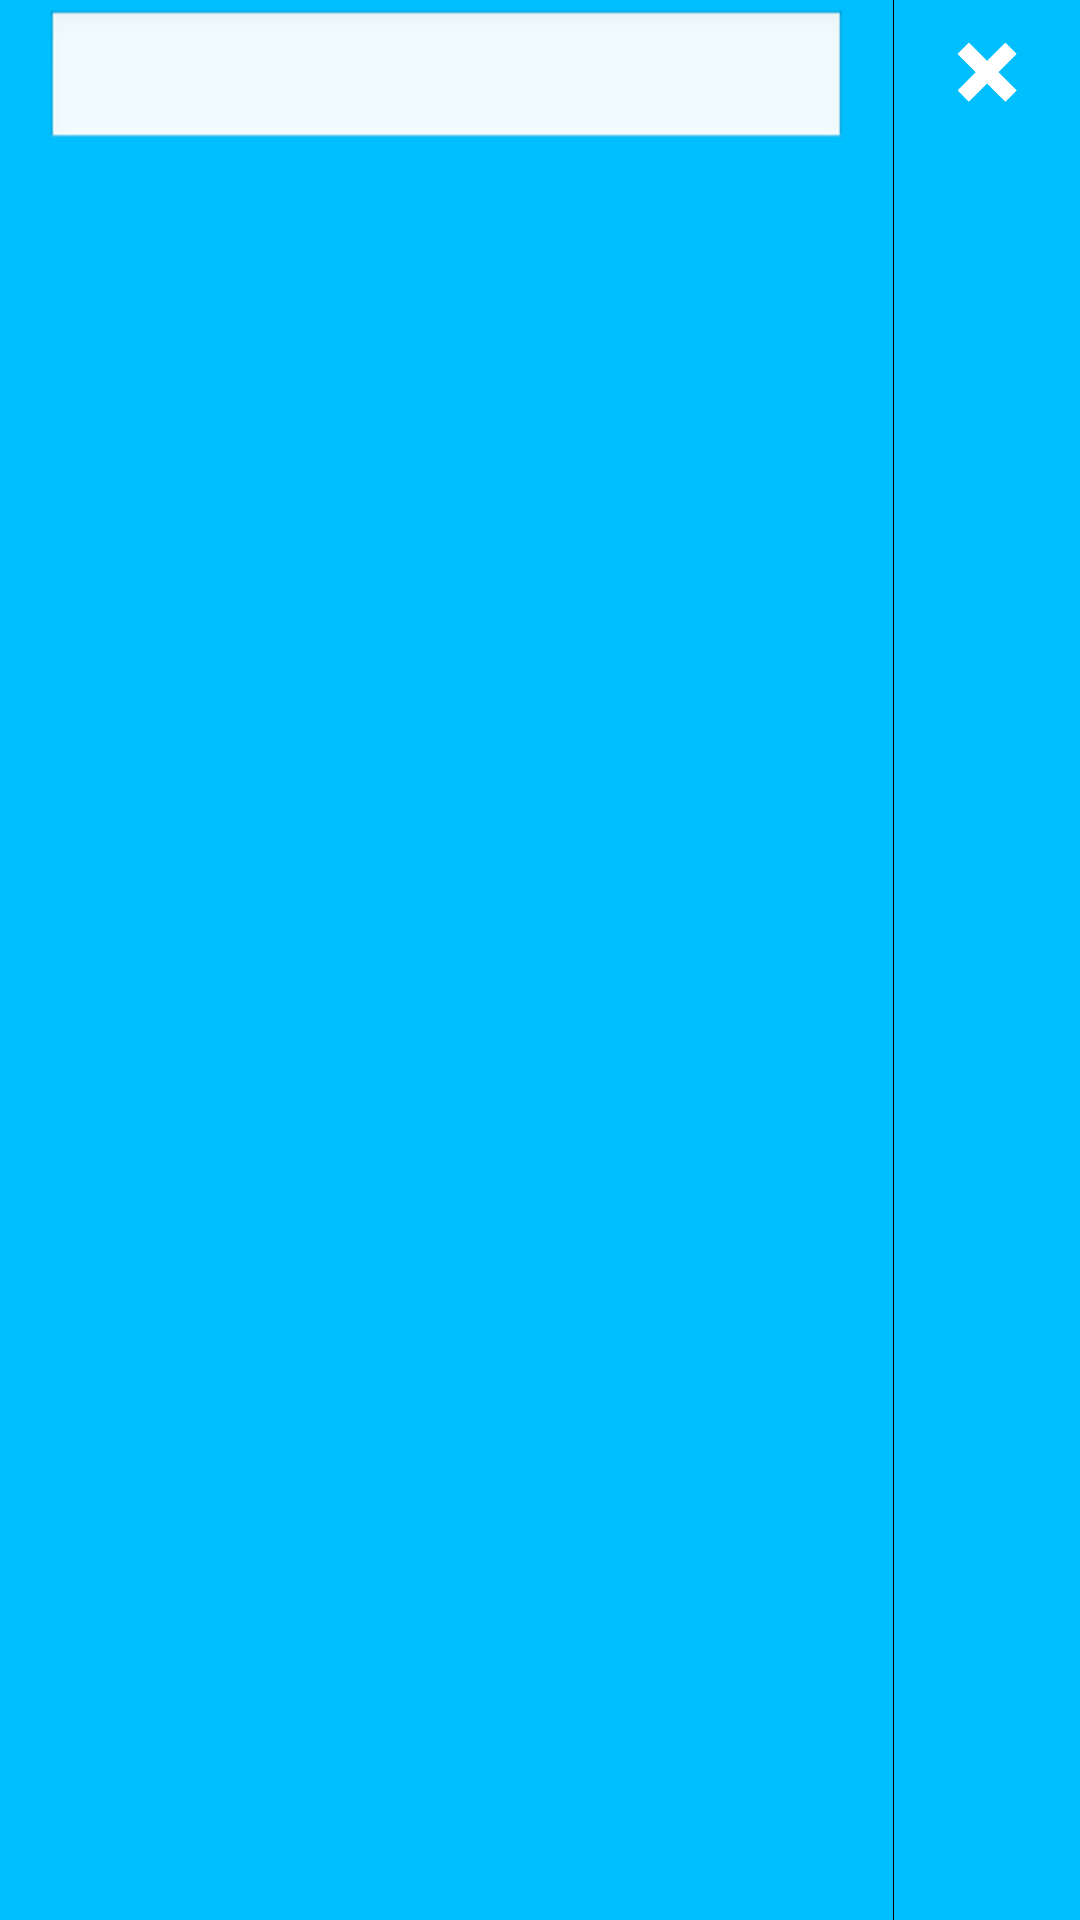

Screen size 1080 × 1920. Icon name, then its center in pixels as (x,y):
close: (987,72)
